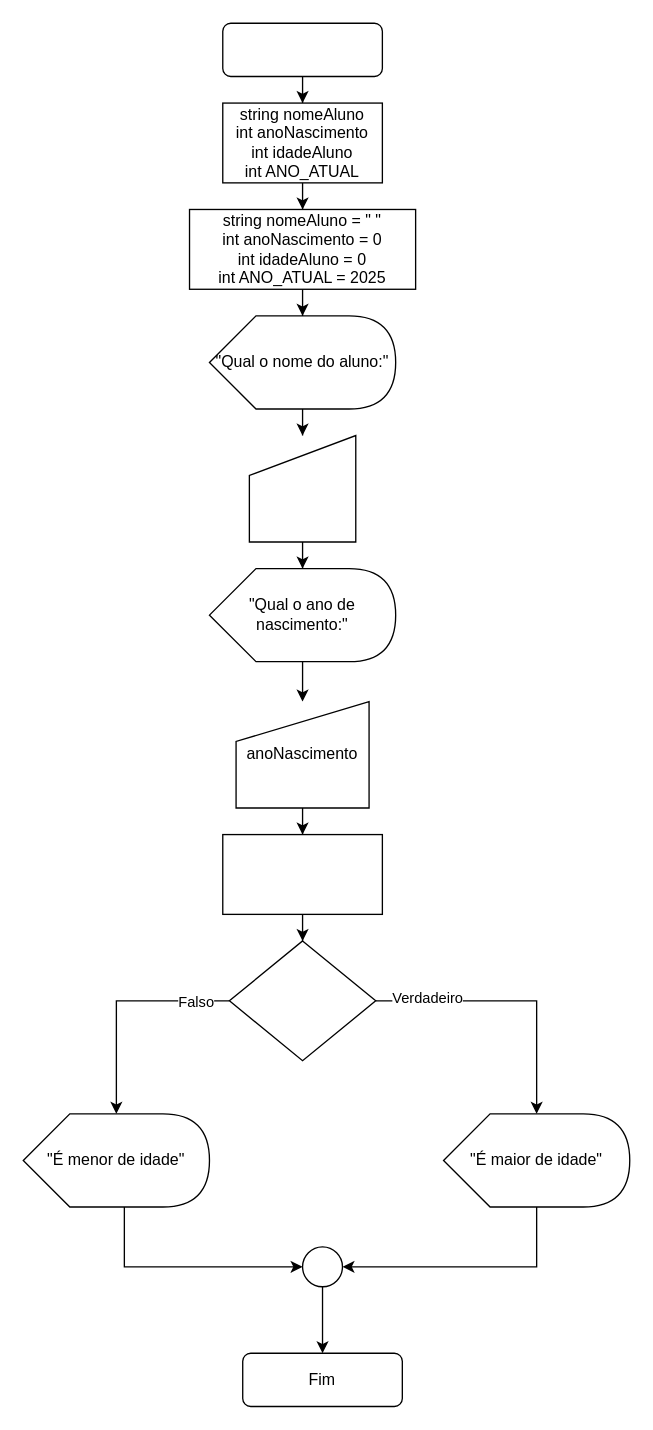
The diagram is 653 pixels wide and 1430 high, and some of its shapes have lost their labels. Here are the shapes that lost their labels. From the top down, the centre of each, then its label:
the point at 301,49: Início
the point at 302,488: nomeAluno
the point at 301,873: idadeAluno = ANO_ATUAL - anoNascimento
the point at 302,1000: idadeAluno >= 18
